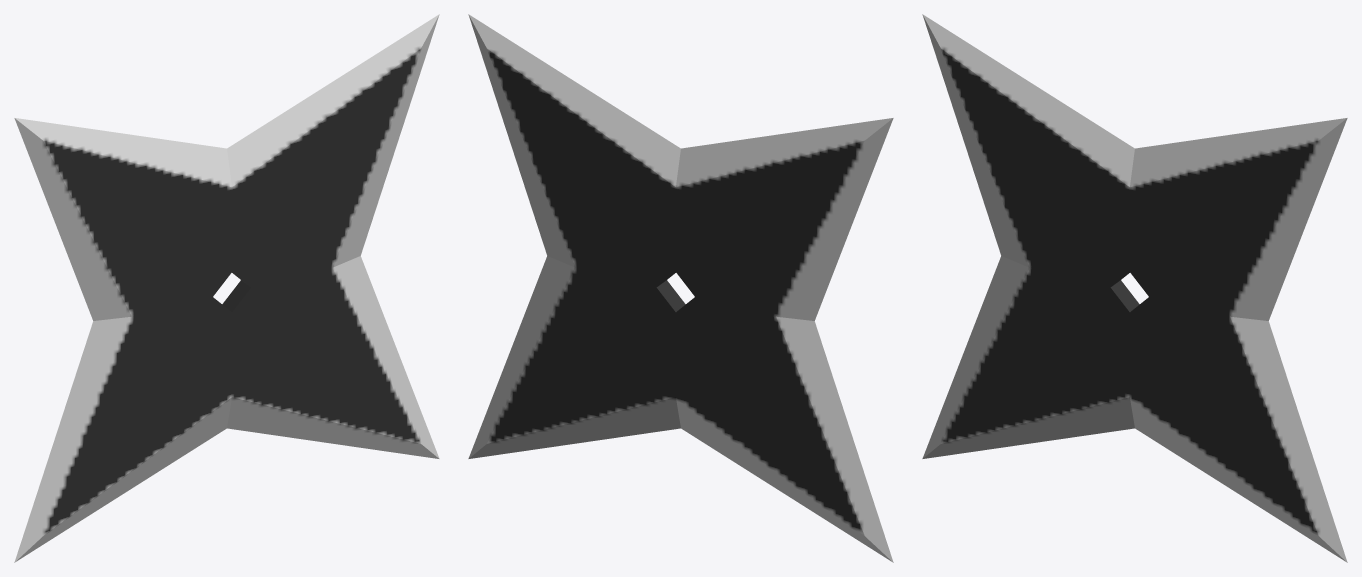
File: syuriken1.fbx
3 views of the same model, side by side, from view 1: azimuth 30°, elevation 25°; view 2: azimuth 150°, elevation 25°; view 3: azimuth 330°, elevation 25° (orthographic).
Parts seen in each view (by area): view 1: syuriken1; view 2: syuriken1; view 3: syuriken1.
Boxes of the visible parts, left/top/right/bottom form: syuriken1: left=14, top=14, right=439, bottom=562; syuriken1: left=468, top=14, right=893, bottom=562; syuriken1: left=922, top=14, right=1347, bottom=562.
Size of the model in its own units: 0.1647 by 0.1647 by 0.0069.
